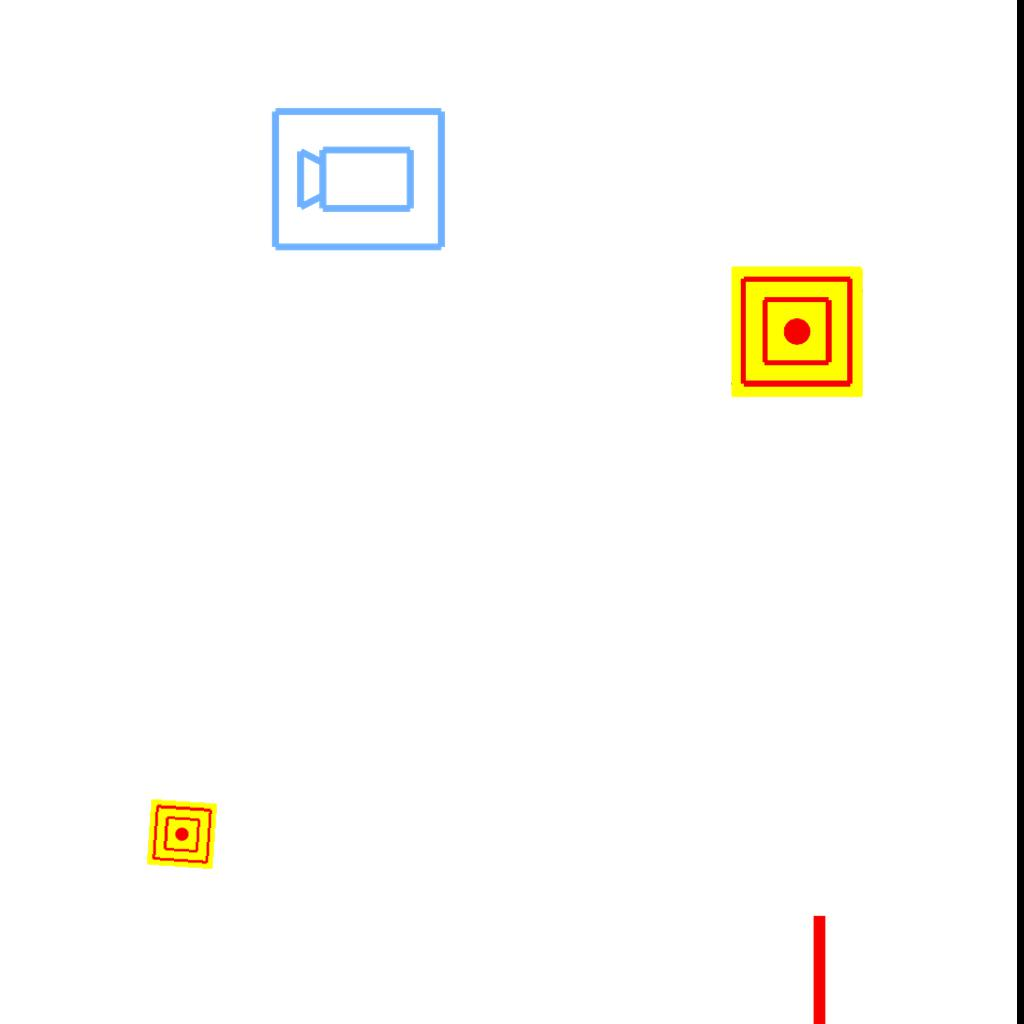ASR_Ansaugoeffnung: (794, 910, 840, 1024)
KFO_Kamera_mit_Festobjektiv: (268, 101, 450, 255)
NAM-Nichtautomatischer_Melder: (731, 266, 863, 398), (146, 798, 218, 870)
